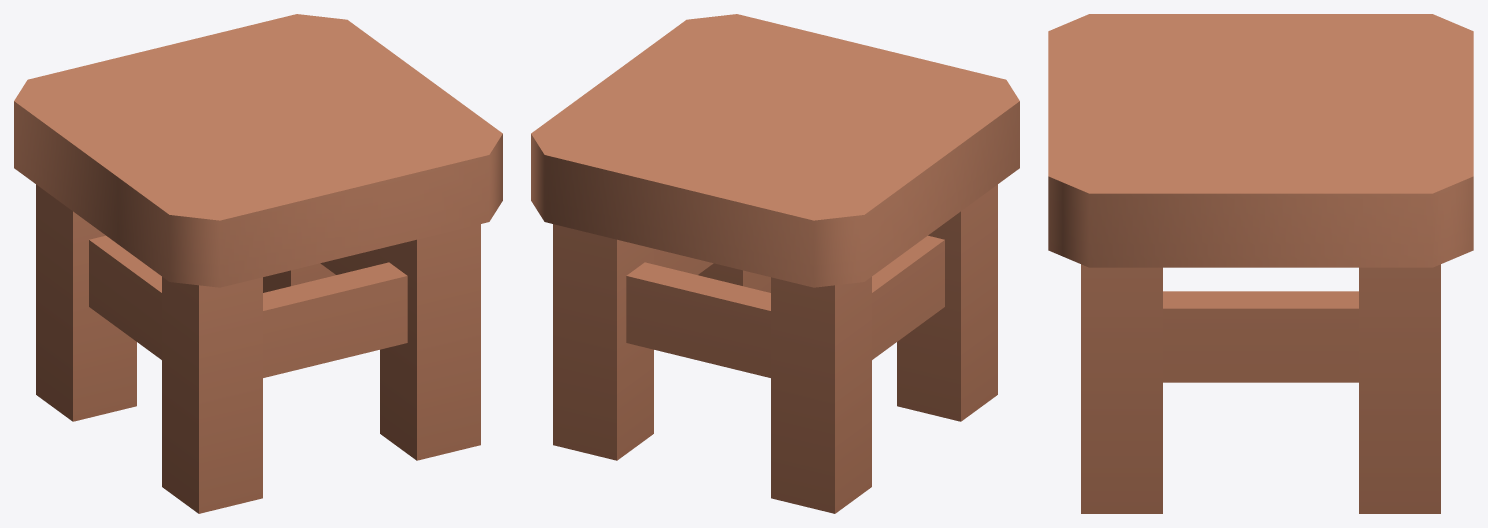
The model's file is stall-stool.obj.
3 renders of one model, left to right at view 1: azimuth 30°, elevation 25°; view 2: azimuth 150°, elevation 25°; view 3: azimuth 270°, elevation 25°, orthographic. The views are drawn at different scales.
Visible parts, largest first — view 1: stall-stool; view 2: stall-stool; view 3: stall-stool.
Boxes of the visible parts, <box> form: stall-stool: <box>14,14,502,513</box>; stall-stool: <box>531,14,1019,513</box>; stall-stool: <box>1048,14,1473,513</box>.
Bounding box in the file's own units: 0.26 × 0.2255 × 0.26.
Materials: 1 (1 with a texture image).
